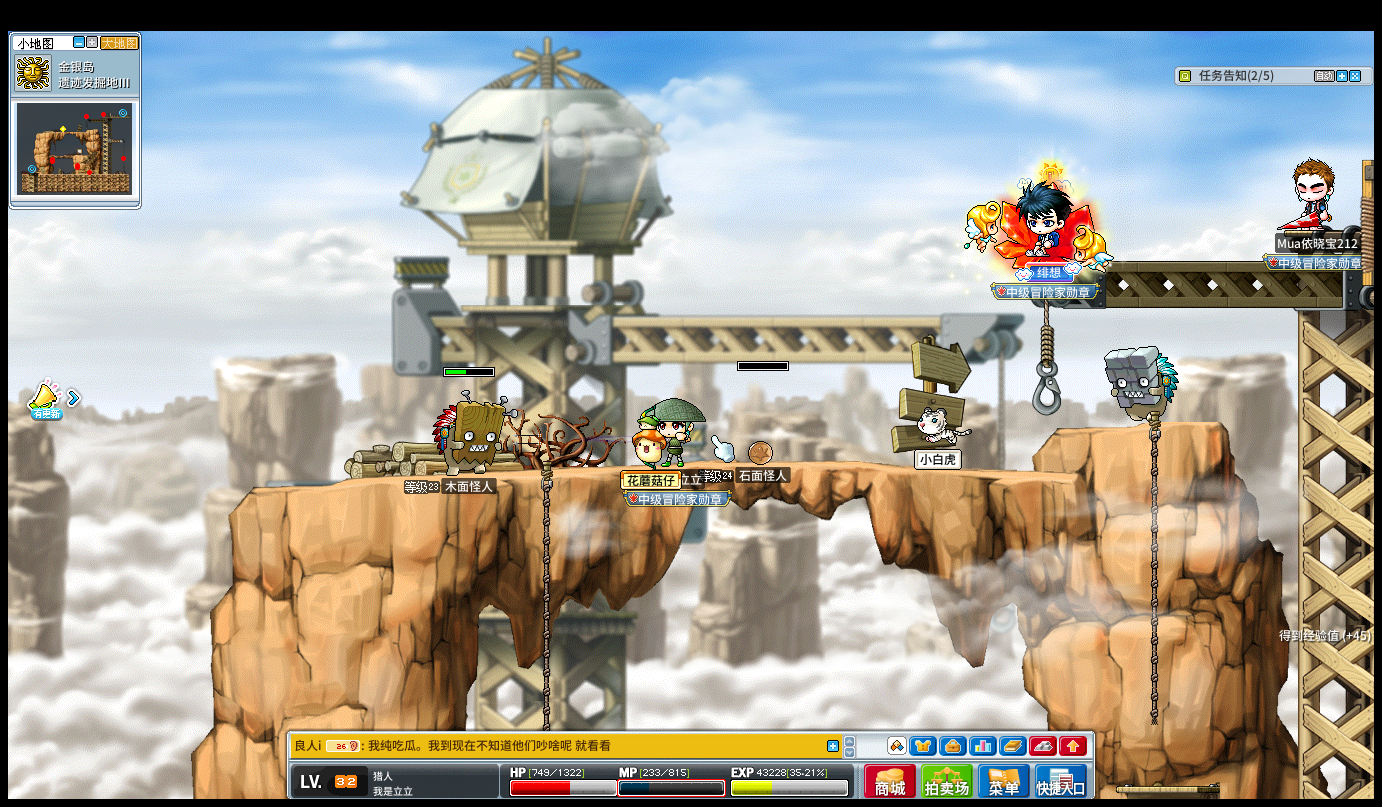floor: (241, 455, 1147, 486), (1057, 417, 1227, 434)
monster: (432, 392, 513, 474), (1103, 344, 1179, 425)
rope: (1145, 409, 1161, 729), (538, 454, 552, 738), (540, 454, 552, 673)
